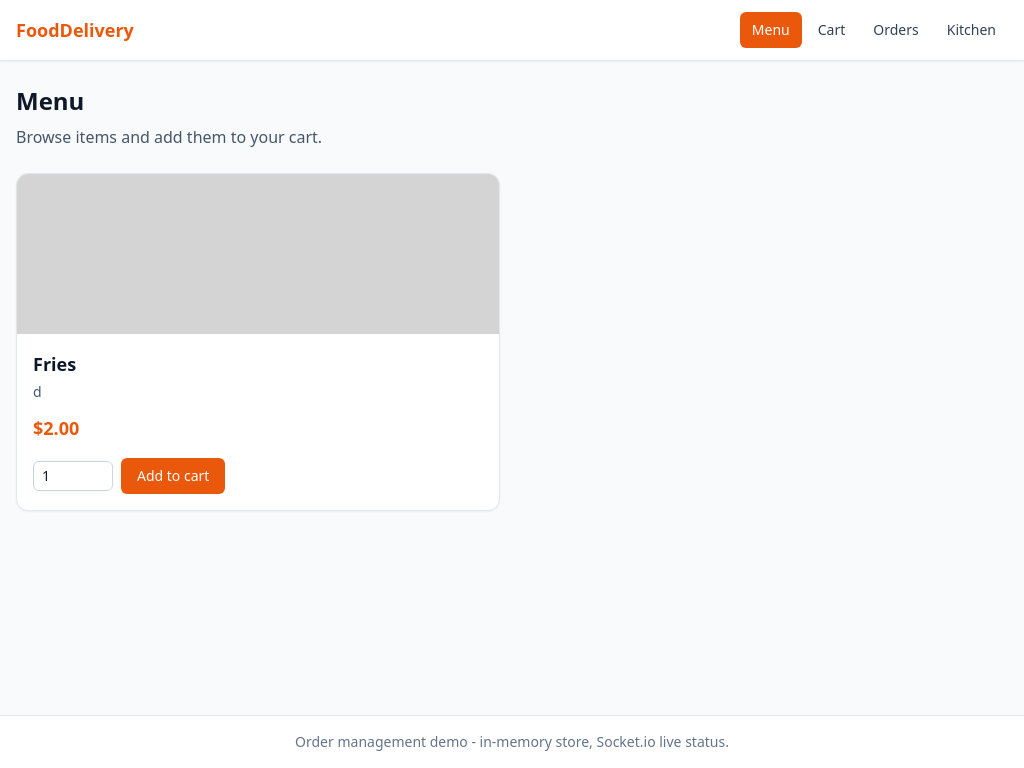
Scenario: CheckoutPage › surfaces server error on failed place order
Click the button "Add to cart": (173, 476) [121,458,225,494]
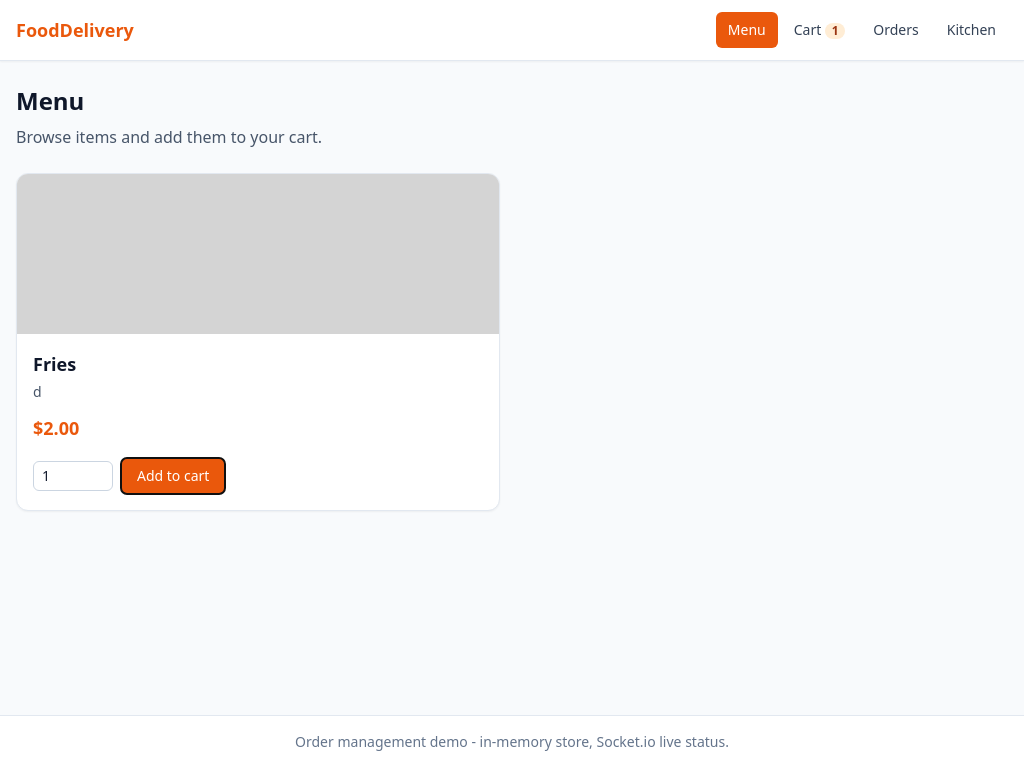
Click the link "Cart 1": (820, 30) [794,20,845,39]
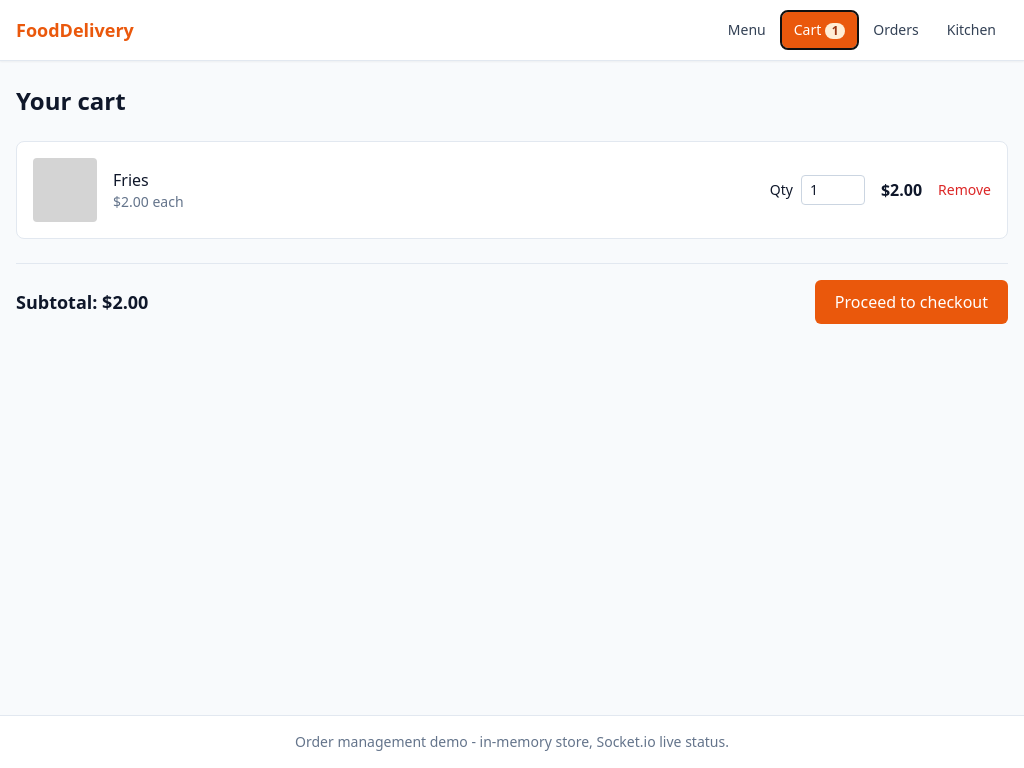
Click the link "Proceed to checkout": (911, 302) [815,280,1008,324]
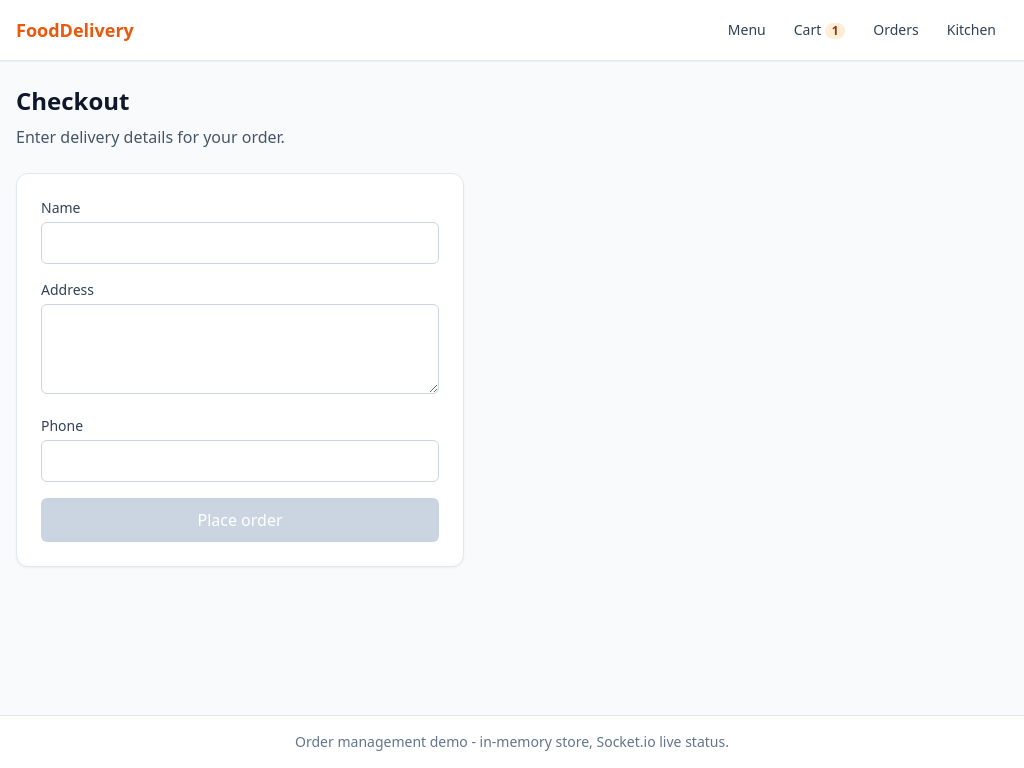
In the field labelled "Name": (240, 243) [41,222,439,264], type "Jane"
In the text box labelled "Address": (240, 349) [41,304,439,394], type "1 Main St"
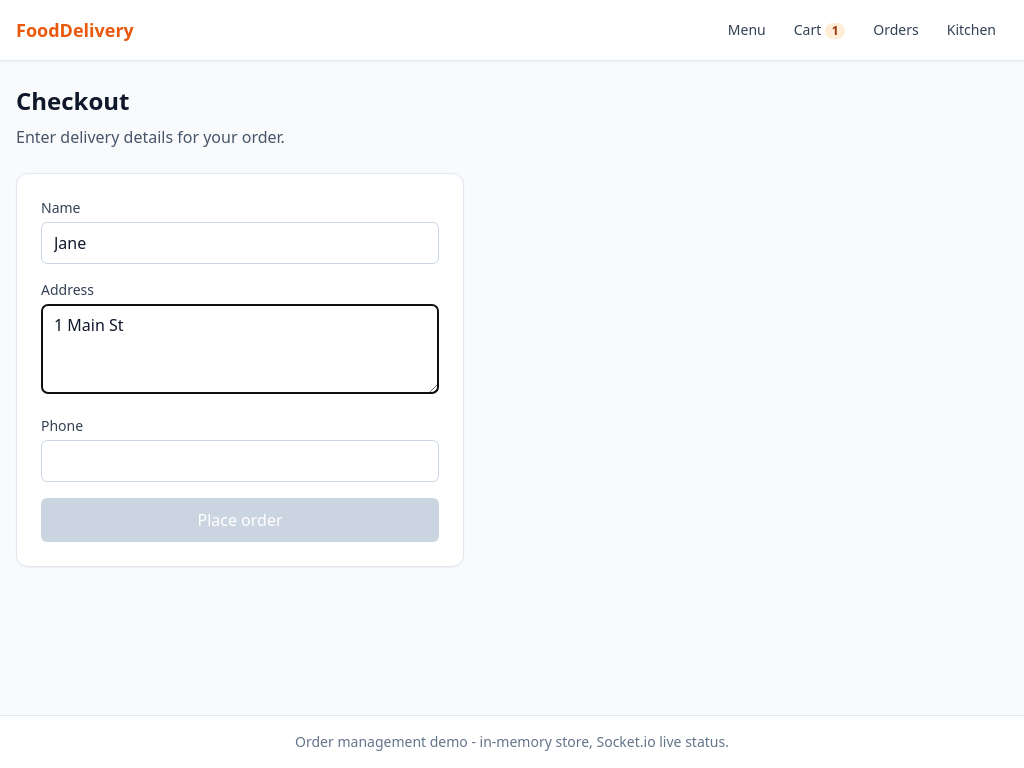
In the field labelled "Phone": (240, 461) [41,440,439,482], type "1234567890"
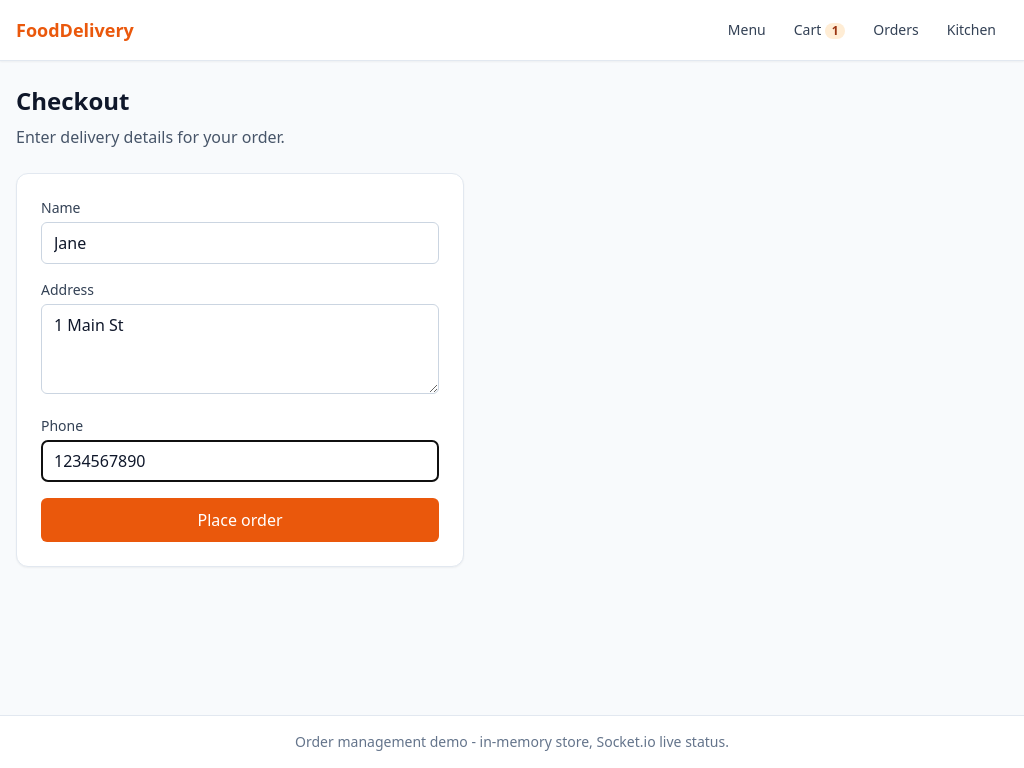
Click the button "Place order": (240, 520) [41,498,439,542]
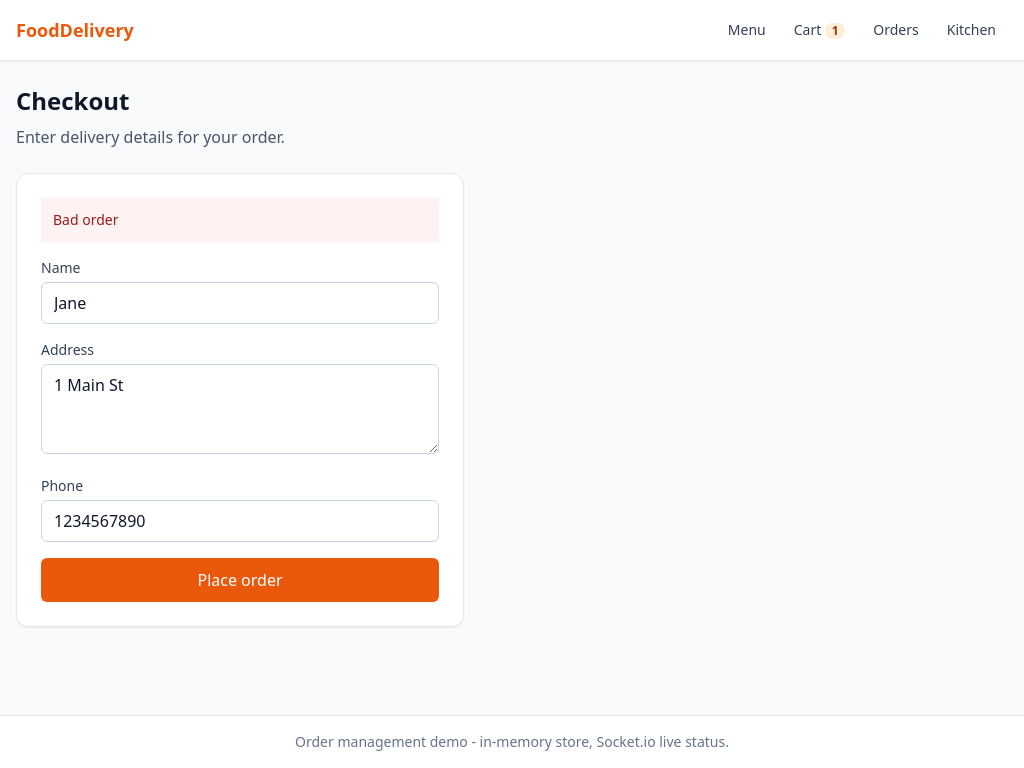
Now the message reads "Bad order", box [53,210,118,229]
